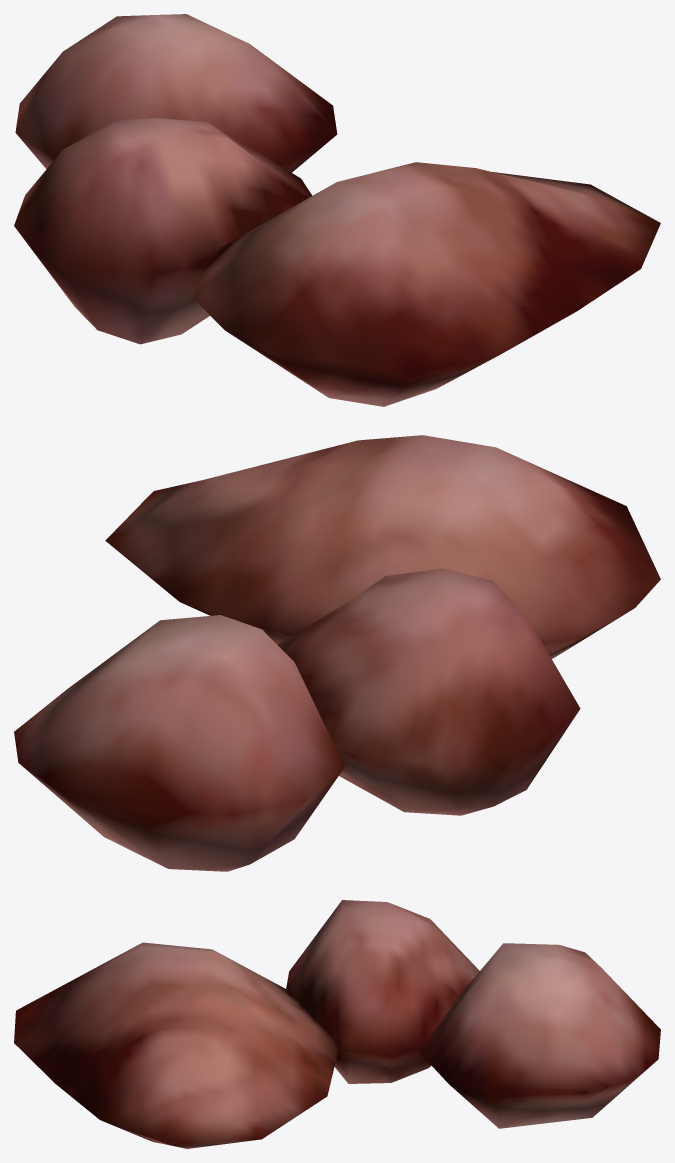
File: brain_chunk_05.dae
The picture shows the model from 3 angles, top to bottom: view 1: azimuth 30°, elevation 25°; view 2: azimuth 150°, elevation 25°; view 3: azimuth 270°, elevation 25°; orthographic projection. The views are drawn at different scales.
Visible parts, largest first — view 1: chunk_05; view 2: chunk_05; view 3: chunk_05.
Part boxes in pixels (box(x1,y1,x2,y2)): chunk_05: box(14, 14, 660, 406); chunk_05: box(14, 435, 660, 871); chunk_05: box(14, 900, 660, 1148).
Bounding box in the file's own units: 0.0815 × 0.0315 × 0.112.
